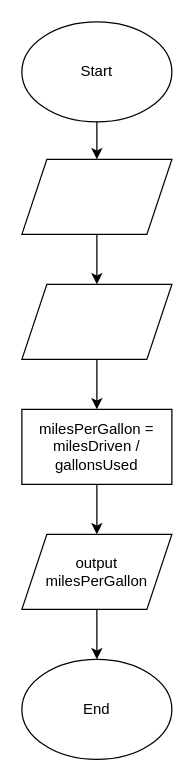
Some shapes in this 194 by 781 pixel diagram are drawn without their labels. The centre of each missing label's shape, as x and y in pixels:
"input gallonsUsed" belongs at (x=96, y=321).
"Input milesDriven" belongs at (x=96, y=196).
